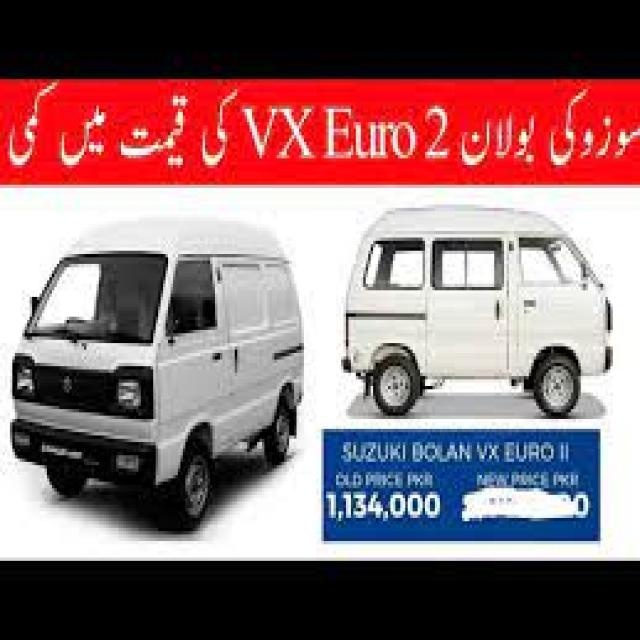Van: (5, 214, 309, 528), (336, 208, 620, 425)
